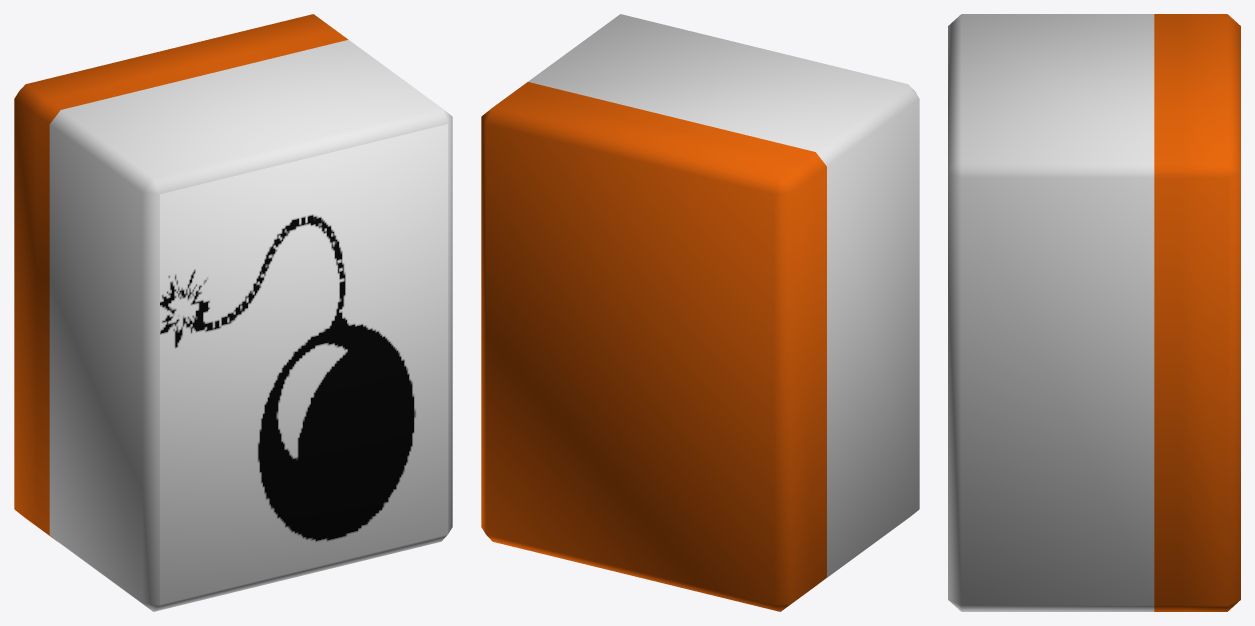
File: Bomb.gltf
3 renders of one model, left to right at view 1: azimuth 30°, elevation 25°; view 2: azimuth 150°, elevation 25°; view 3: azimuth 270°, elevation 25°, orthographic. The views are drawn at different scales.
Parts seen in each view (by area): view 1: Cube; view 2: Cube; view 3: Cube.
Part boxes in pixels (bbox=[...]): Cube: bbox=[14, 14, 452, 611]; Cube: bbox=[481, 14, 919, 611]; Cube: bbox=[948, 14, 1240, 611].
Size of the model in its own units: 1.95 by 2.6 by 1.53.
3 materials, 1 textured.
